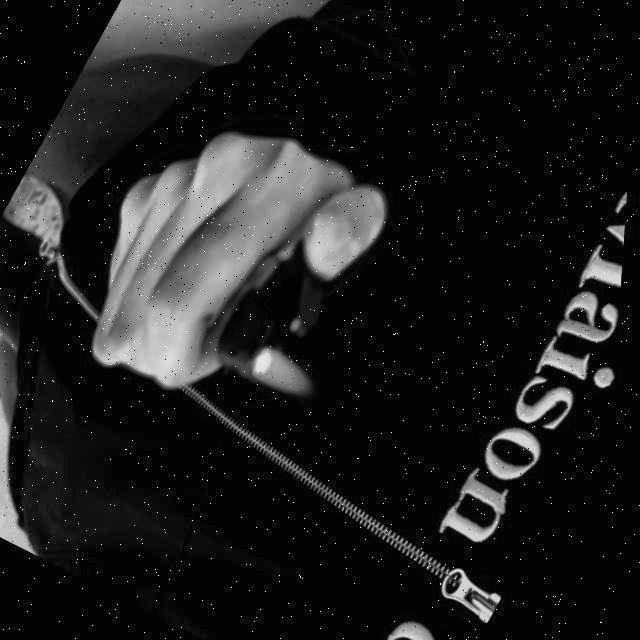Fire: (254, 345, 328, 402)
